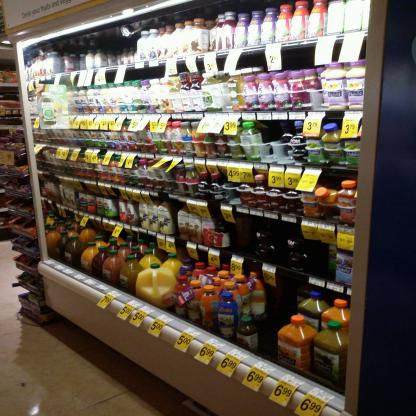Void: (306, 247, 335, 283), (266, 293, 294, 316), (282, 51, 313, 68), (233, 227, 251, 254), (261, 123, 274, 159)
